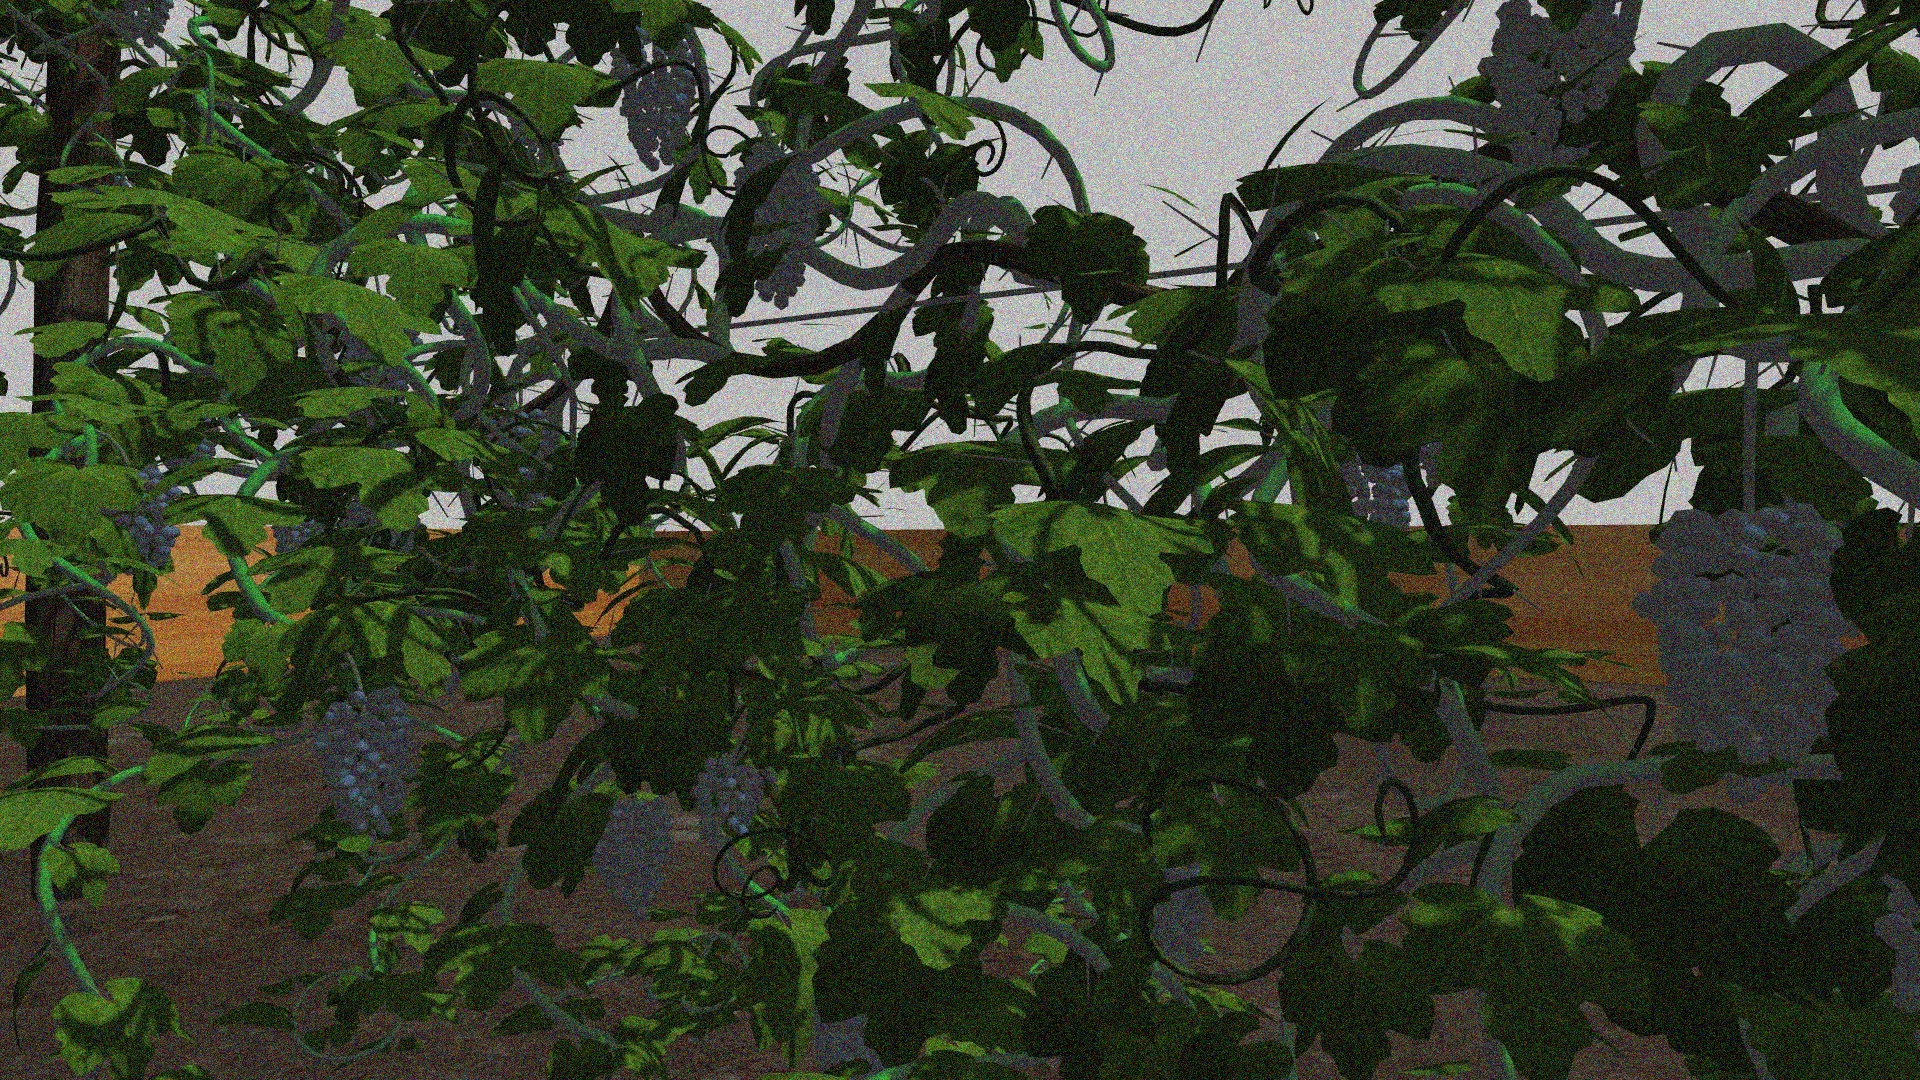grape: (1630, 498, 1850, 806), (1478, 8, 1626, 173), (311, 683, 421, 841), (728, 144, 822, 309), (615, 34, 700, 175), (589, 793, 678, 924), (688, 750, 765, 858)
